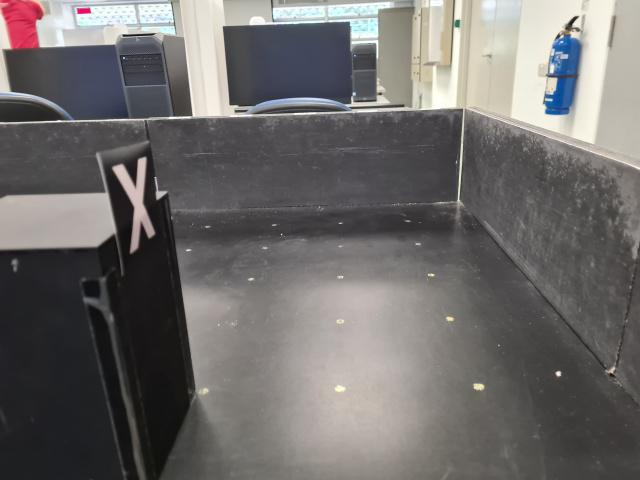x: (96, 140, 165, 279)
